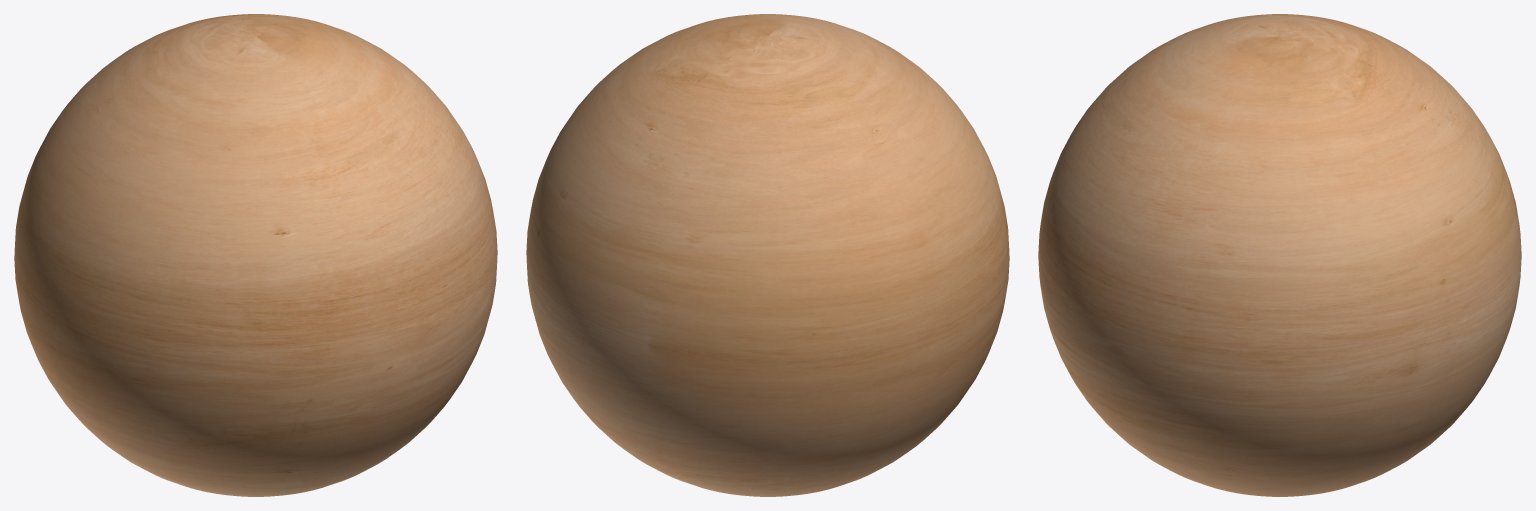
File: Mat_038_WoodGrain_03.glb
3 views of the same model, side by side, from view 1: azimuth 30°, elevation 25°; view 2: azimuth 150°, elevation 25°; view 3: azimuth 270°, elevation 25° (orthographic).
Visible parts, largest first — view 1: EditorSphere; view 2: EditorSphere; view 3: EditorSphere.
Part boxes in pixels (x1,y1,x2,y2): EditorSphere: [14, 14, 497, 496]; EditorSphere: [526, 14, 1009, 496]; EditorSphere: [1038, 14, 1521, 496].
Size of the model in its own units: 3.2 by 3.2 by 3.2.
1 material, 1 textured.
